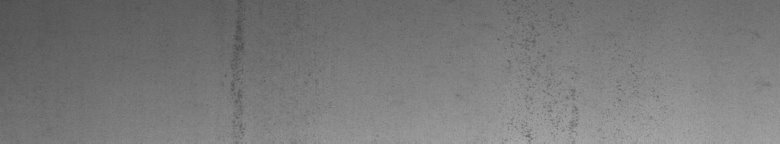ib: (508, 12, 580, 136)
